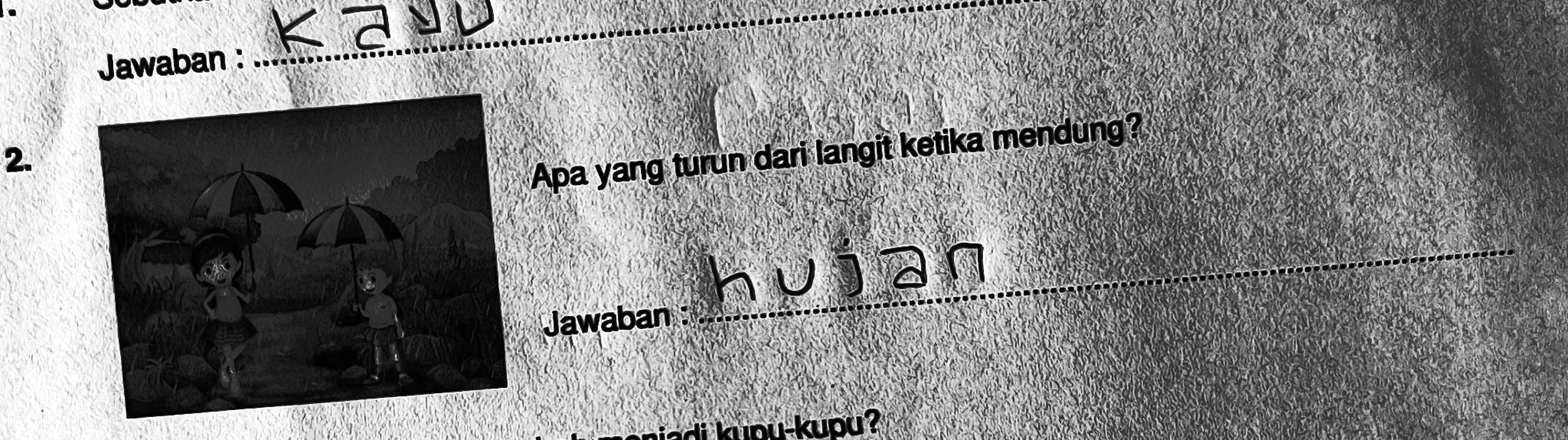jawaban: (700, 219, 1001, 314)
